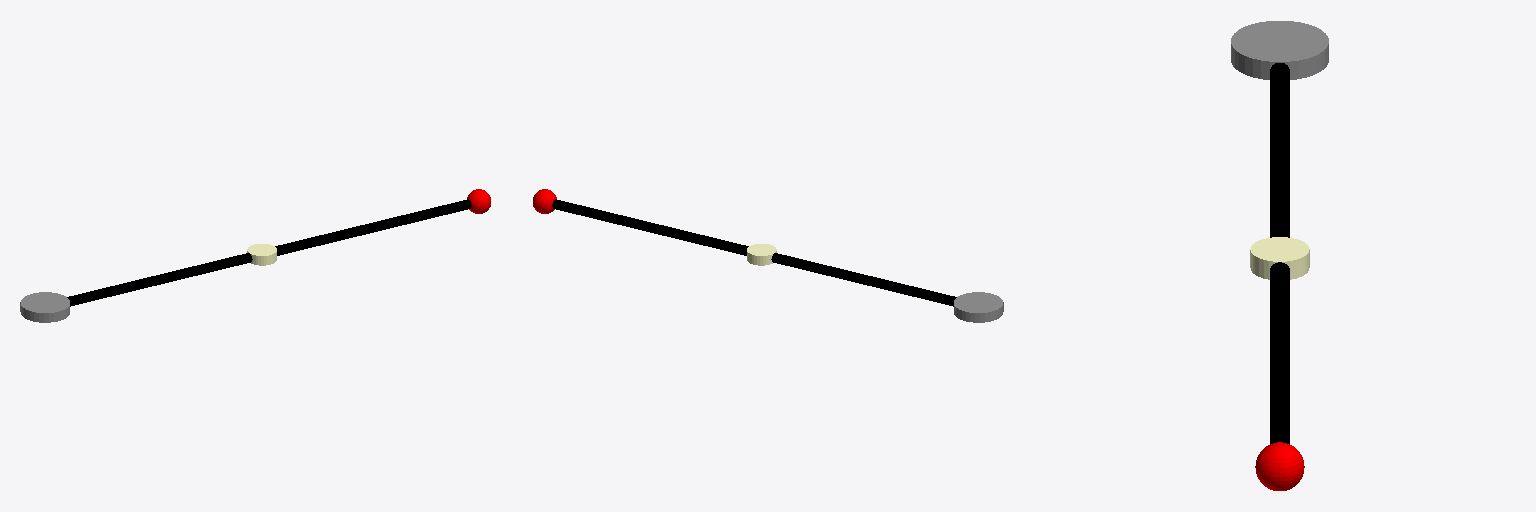
The robot description file, URDF, robot "planar2R":
<?xml version="1.0"?>

<robot name="planar2R">
  
  <!-- *************************************************** -->
  <!-- ******************** Kinematics ******************* -->
  <!-- *************************************************** -->
  <!-- Note the 'origin' tag in the joints defines the
       shift and reorientation before the continuous joint
       rotates around the 'axis'. -->

  <!-- The link lengths are:
       l1 = 1.0m
       l2 = 1.0m  -->

  <link name="world"/>

  <joint name="theta1" type="continuous">
    <parent link="world"/>
    <child  link="link1"/>
    <origin xyz="0 0 0" rpy="0 0 0"/>
    <axis   xyz="0 0 1"/>
  </joint>

  <link name="link1"/>

  <joint name="theta2" type="continuous">
    <parent link="link1"/>
    <child  link="link2"/>
    <origin xyz="1 0 0" rpy="0 0 0"/>
    <axis   xyz="0 0 1"/>
  </joint>

  <link name="link2"/>

  <joint name="shifttotip" type="fixed">
    <parent link="link2"/>
    <child  link="tip"/>
    <origin xyz="1 0 0" rpy="0 0 0"/>
  </joint>

  <link name="tip"/>


  <!-- *************************************************** -->
  <!-- ********************* Graphics ******************** -->
  <!-- *************************************************** -->
  <!-- The following is purely to make this look roboticy. -->
  <!-- The 'origin' tag in the link/visual defines the
       center of the object (box, cylinder, sphere, mesh)
       but does not affect the joint chain kinematics. -->

  <!-- *************** Materials / Colors **************** -->

  <material name="white">    <color rgba="1.00 1.00 1.00 1"/>  </material>
  <material name="gray">     <color rgba="0.60 0.60 0.60 1"/>  </material>
  <material name="table">    <color rgba="0.85 0.77 0.77 1"/>  </material>
  <material name="black">    <color rgba="0.00 0.00 0.00 1"/>  </material>

  <material name="red">      <color rgba="1.00 0.00 0.00 1"/>  </material>
  <material name="green">    <color rgba="0.00 1.00 0.00 1"/>  </material>
  <material name="blue">     <color rgba="0.00 0.00 1.00 1"/>  </material>

  <material name="cyan">     <color rgba="0.00 1.00 1.00 1"/>  </material>
  <material name="magenta">  <color rgba="1.00 0.00 1.00 1"/>  </material>
  <material name="yellow">   <color rgba="1.00 1.00 0.00 1"/>  </material>

  <material name="motor">    <color rgba="1.00 1.00 0.80 1"/>  </material>
  <material name="orange">   <color rgba="1.00 0.65 0.00 1"/>  </material>


  <!-- *** Base Motor 1 - attached to world *** -->

  <joint name="attach-motor1" type="fixed">
    <parent link="world"/>
    <child  link="motor1"/>
  </joint>

  <link name="motor1">
    <visual>
      <origin xyz="0 0 0" rpy="0 0 0"/>
      <geometry>
	<cylinder length="0.042" radius="0.10"/>
      </geometry>
      <material name="gray"/>
    </visual>
  </link>

  <!-- *** Link 1 Bar - attached to link1 *** -->

  <joint name="attach-link1bar" type="fixed">
    <parent link="link1"/>
    <child  link="link1bar"/>
  </joint>

  <link name="link1bar">
    <visual>
      <origin xyz="0.5 0 0" rpy="0 1.5708 0"/>
      <geometry>
	<cylinder length="1.0" radius="0.02"/>
      </geometry>
      <material name="black"/>
    </visual>
  </link>

  <!-- *** Motor 2 - attached to link1 *** -->

  <joint name="attach-motor2" type="fixed">
    <parent link="link1"/>
    <child  link="motor2"/>
  </joint>

  <link name="motor2">
    <visual>
      <origin xyz="1 0 0" rpy="0 0 0"/>
      <geometry>
	<cylinder length="0.042" radius="0.06"/>
      </geometry>
      <material name="motor"/>
    </visual>
  </link>

  <!-- *** Link 2 Bar - attached to link2 *** -->

  <joint name="attach-link2bar" type="fixed">
    <parent link="link2"/>
    <child  link="link2bar"/>
  </joint>

  <link name="link2bar">
    <visual>
      <origin xyz="0.5 0 0" rpy="0 1.5708 0"/>
      <geometry>
	<cylinder length="1.0" radius="0.02"/>
      </geometry>
      <material name="black"/>
    </visual>
  </link>

  <!-- *** Tip Ball - attached to tip *** -->

  <joint name="attach-tipball" type="fixed">
    <parent link="tip"/>
    <child  link="tipball"/>
  </joint>

  <link name="tipball">
    <visual>
      <origin xyz="0 0 0" rpy="0 0 0"/>
      <geometry>
      	<sphere radius="0.05"/>
      </geometry>
      <material name="red"/>
    </visual>
  </link>

</robot>

--- What the picture shows (computed from the rendered views, not written in the file) ---
The picture shows the robot from 3 angles, left to right: view 1: azimuth 30°, elevation 25°; view 2: azimuth 150°, elevation 25°; view 3: azimuth 270°, elevation 25°; orthographic projection.
Model planar2R with 9 links and 8 joints (2 continuous, 6 fixed), rooted at world, posed all joints at 0.
Visible links, largest first — view 1: link2bar, link1bar, motor1, motor2; view 2: link2bar, link1bar, motor1, motor2; view 3: motor1, link2bar, link1bar, motor2, tipball.
Boxes of the visible links, left/top/right/bottom form: link2bar: left=275, top=199, right=471, bottom=255; link1bar: left=67, top=253, right=252, bottom=306; motor1: left=20, top=292, right=69, bottom=322; motor2: left=247, top=244, right=276, bottom=265; link2bar: left=552, top=199, right=748, bottom=255; link1bar: left=771, top=253, right=956, bottom=306; motor1: left=954, top=292, right=1003, bottom=322; motor2: left=747, top=244, right=776, bottom=265; motor1: left=1231, top=21, right=1328, bottom=79; link2bar: left=1270, top=262, right=1289, bottom=443; link1bar: left=1270, top=63, right=1289, bottom=237; motor2: left=1250, top=237, right=1309, bottom=279; tipball: left=1255, top=442, right=1304, bottom=490.
Bounding box of the posed robot: 2.15 × 0.2 × 0.1 m (x, y, z).
Geometry: primitives only (box / cylinder / sphere), no mesh files.
